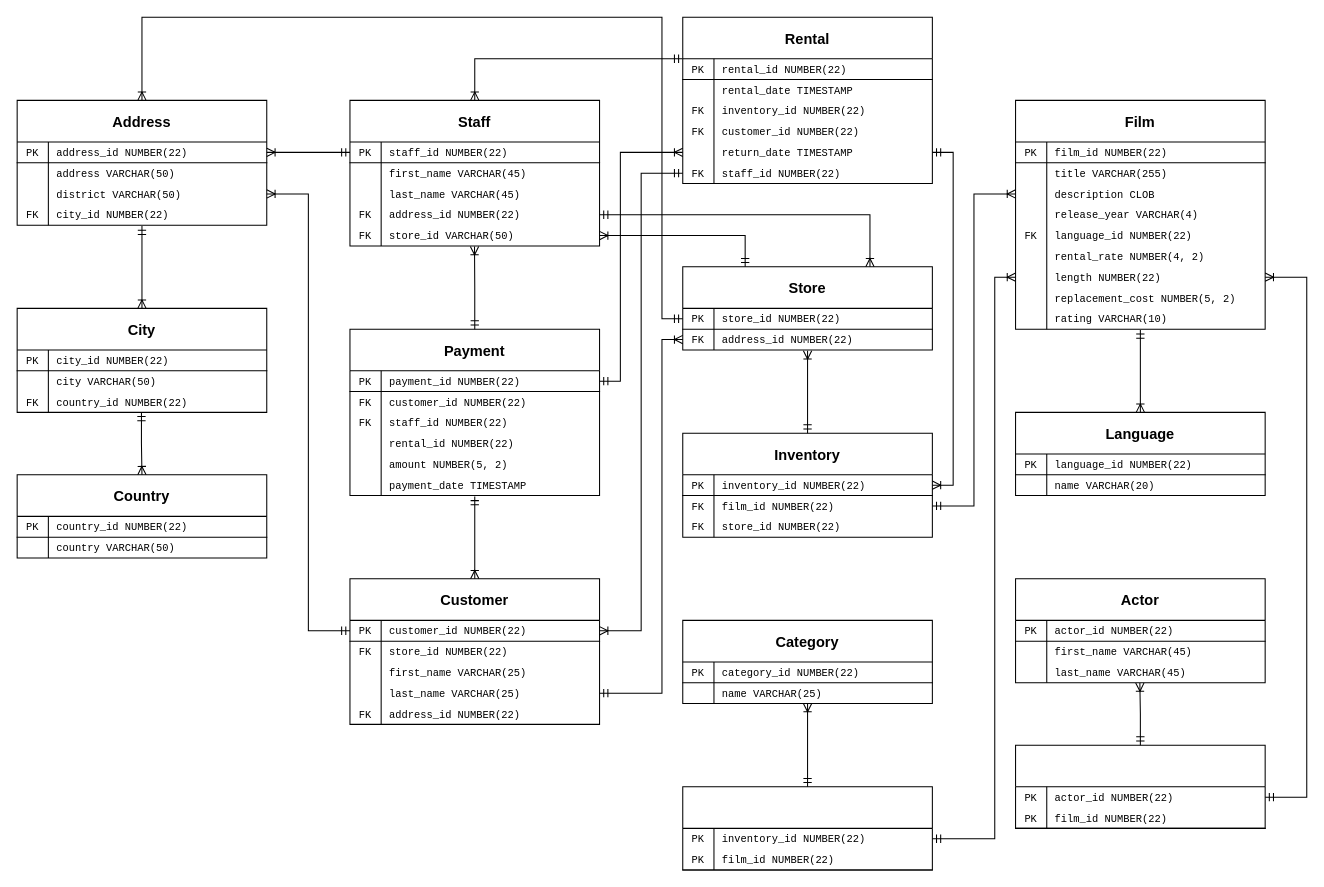
Image size: 1324x887. Some labels were removed from this diagram. Here are the shapes that lost their labels. From the top down, the box of each, then its label:
(1015, 744, 1265, 828): Film Actor
(682, 786, 932, 870): Film Category
